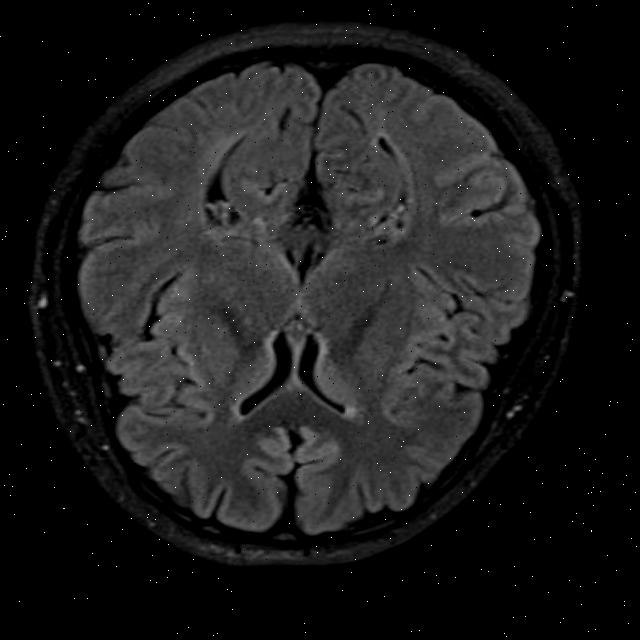NoTumor: (40, 36, 573, 556)
